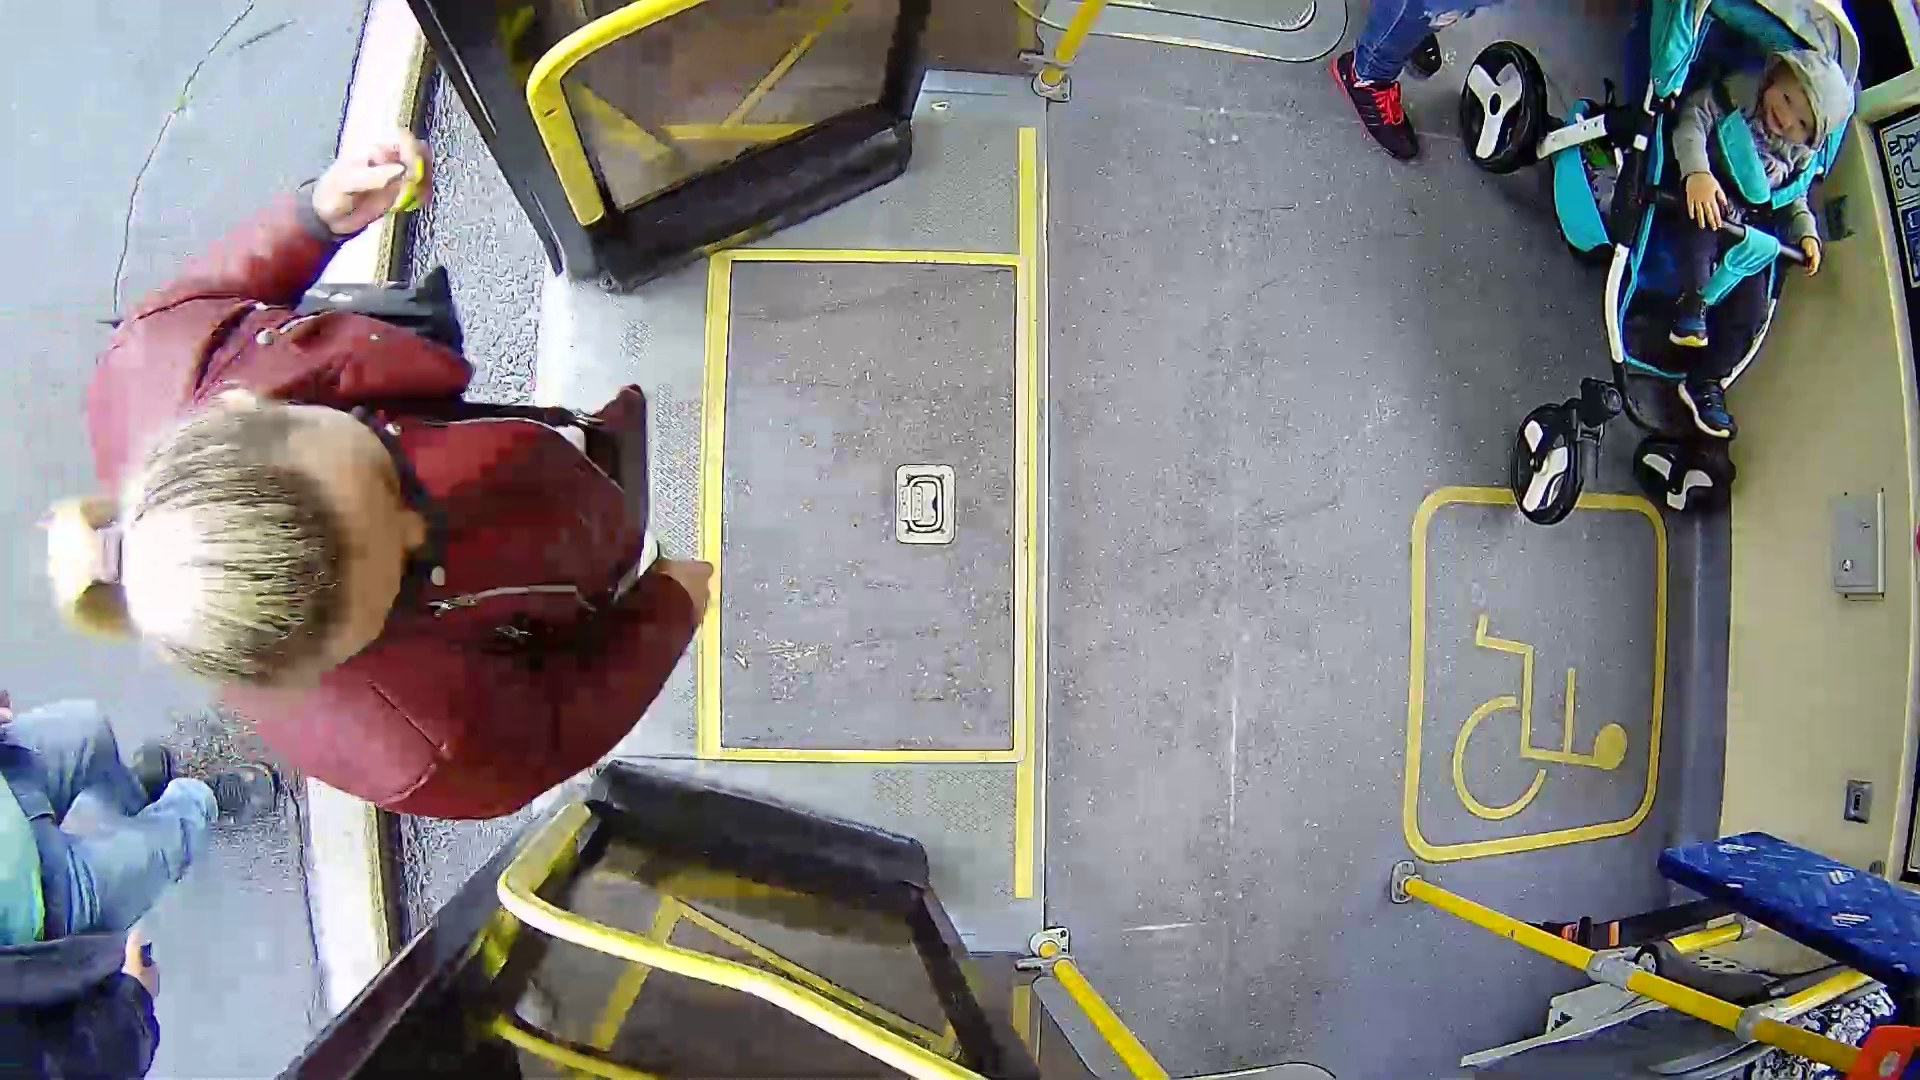person: (68, 174, 778, 822)
